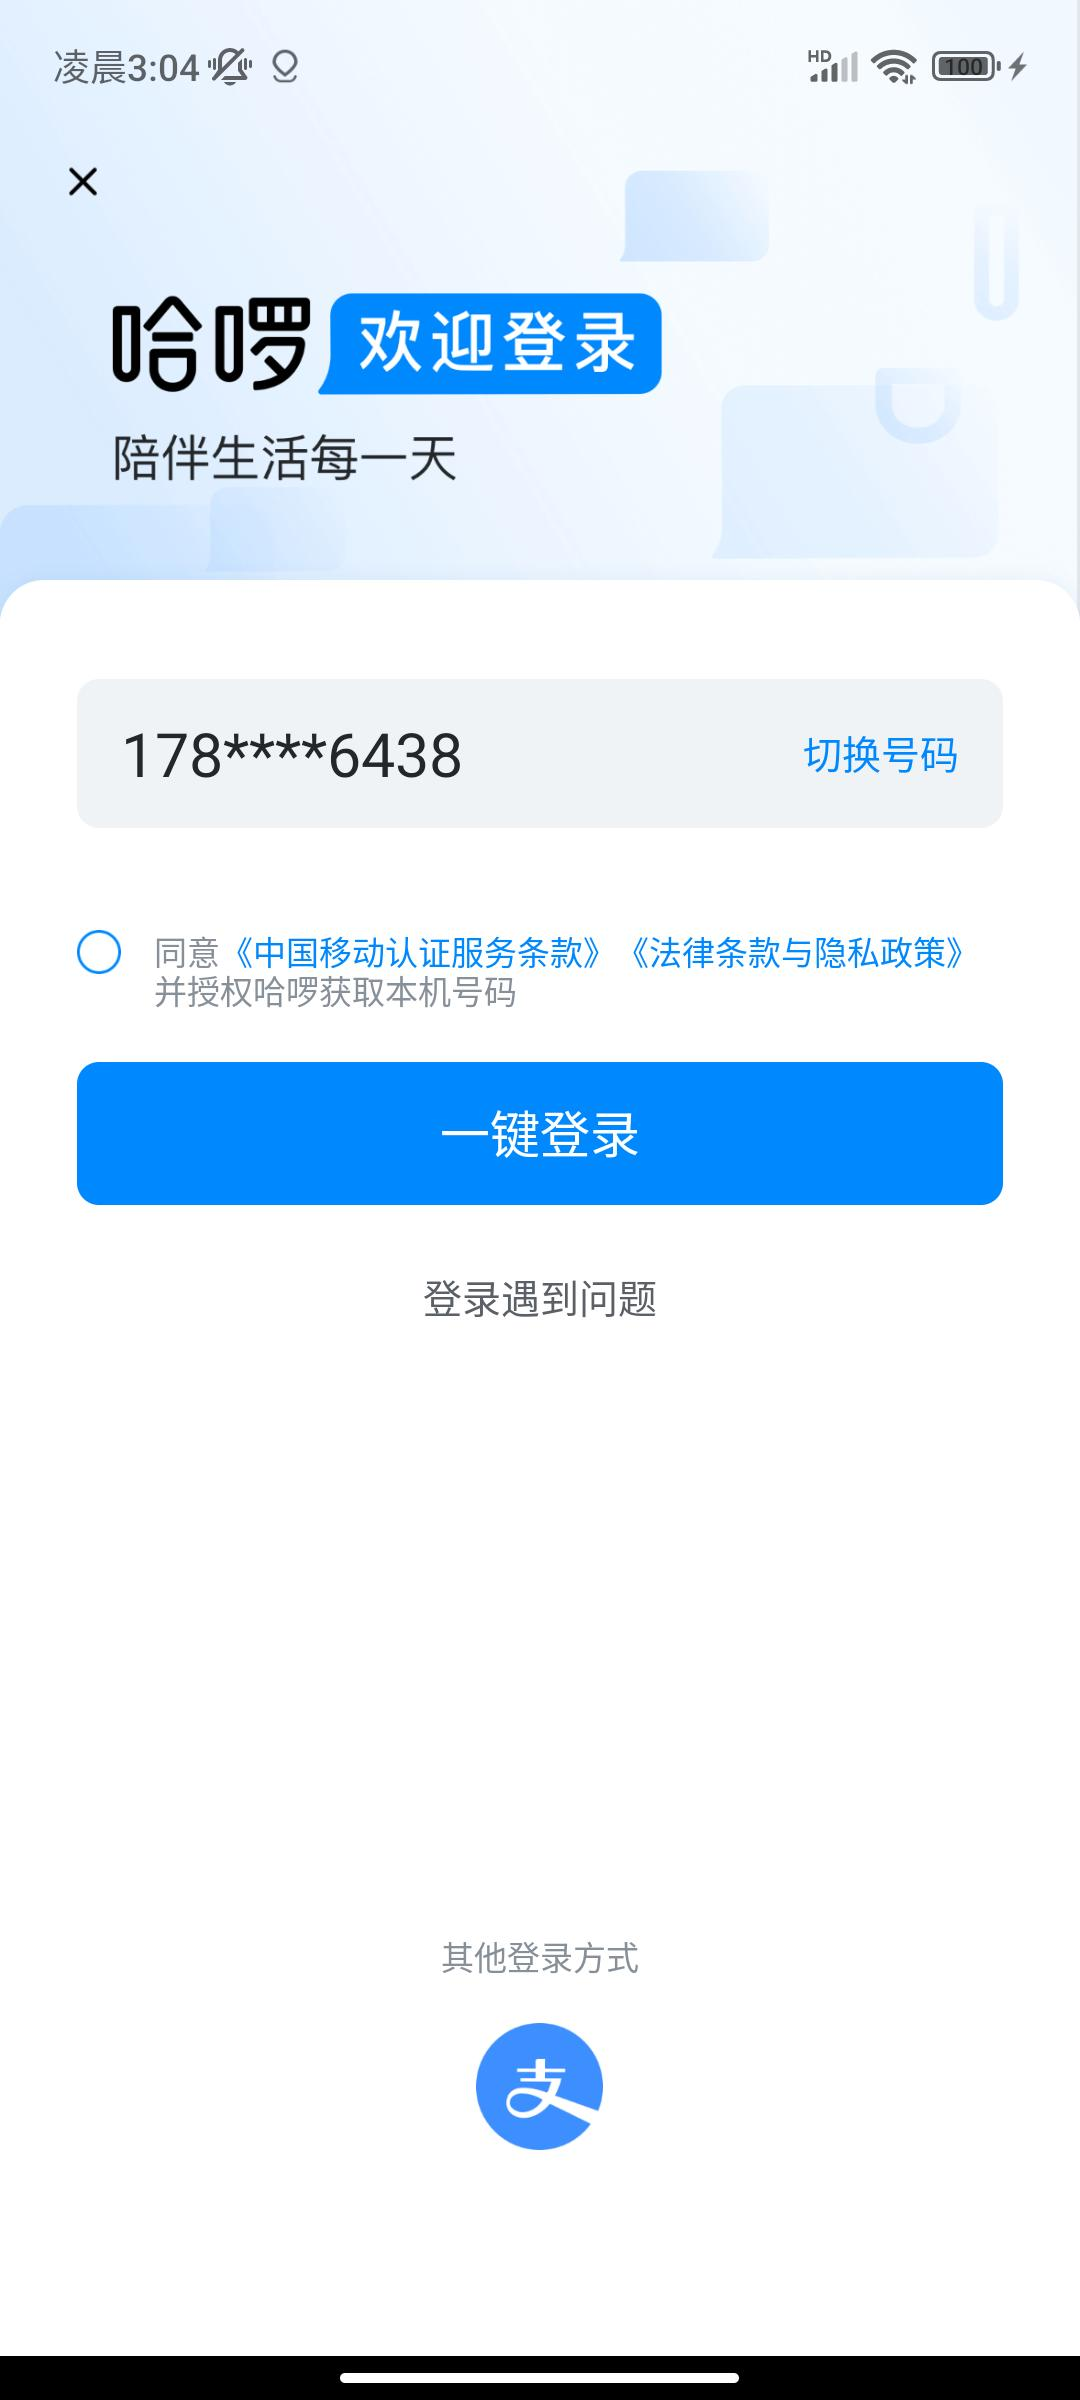ui_group: (18, 240, 1040, 1220)
